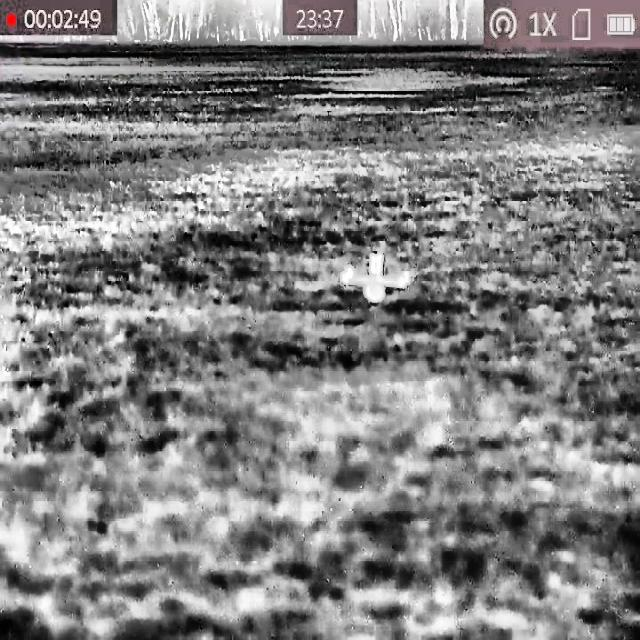drone: (339, 251, 415, 302)
